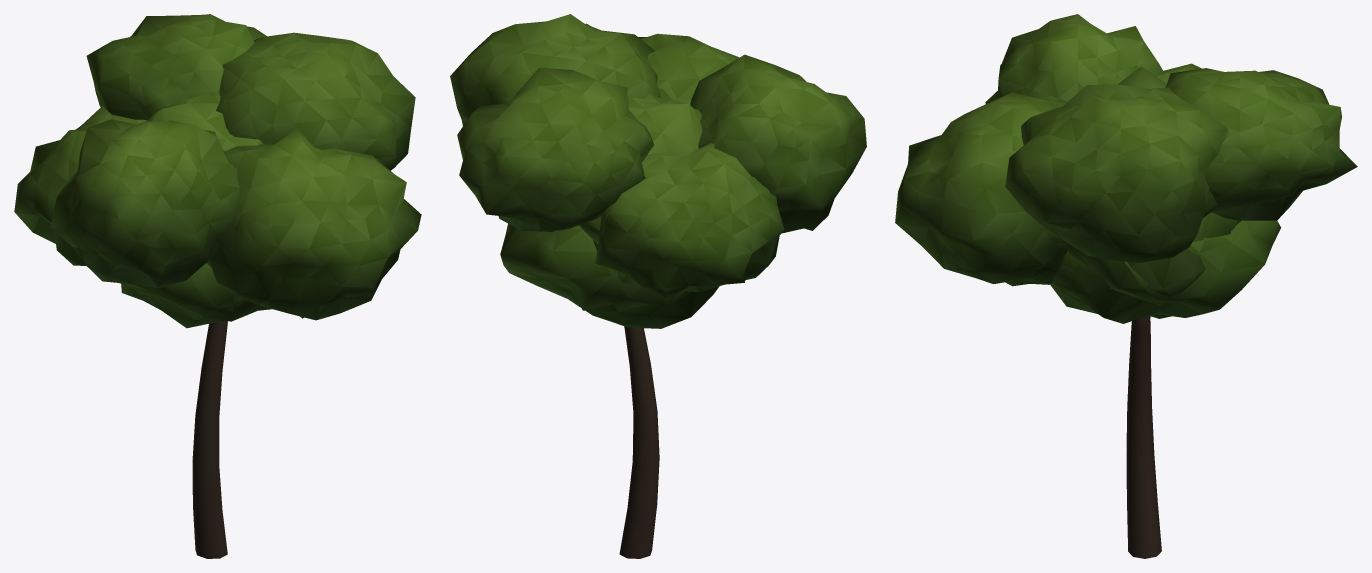
The model's file is tree_b_2.glb.
3 renders of one model, left to right at view 1: azimuth 30°, elevation 25°; view 2: azimuth 150°, elevation 25°; view 3: azimuth 270°, elevation 25°, orthographic.
Visible parts, largest first — view 1: tree_b_2; view 2: tree_b_2; view 3: tree_b_2.
Boxes of the visible parts, x1,y1,x2,y2 form: tree_b_2: (14, 14, 421, 558); tree_b_2: (450, 14, 866, 558); tree_b_2: (895, 14, 1357, 558).
Bounding box in the file's own units: 7.64 × 10.42 × 8.77.
